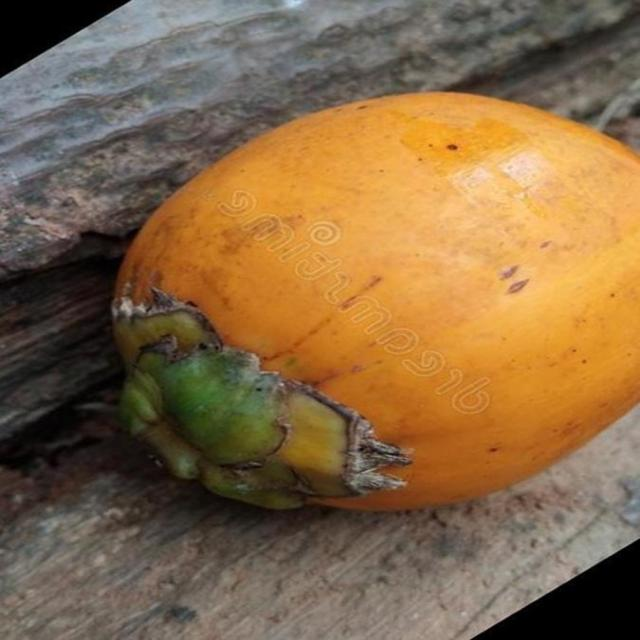good: (109, 92, 639, 514)
